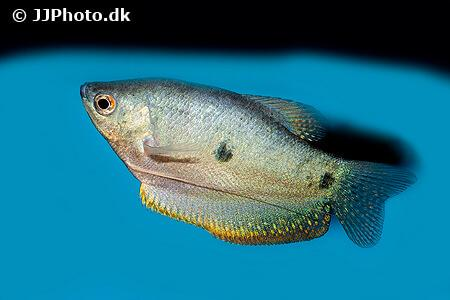Gourami: (82, 77, 419, 248)
